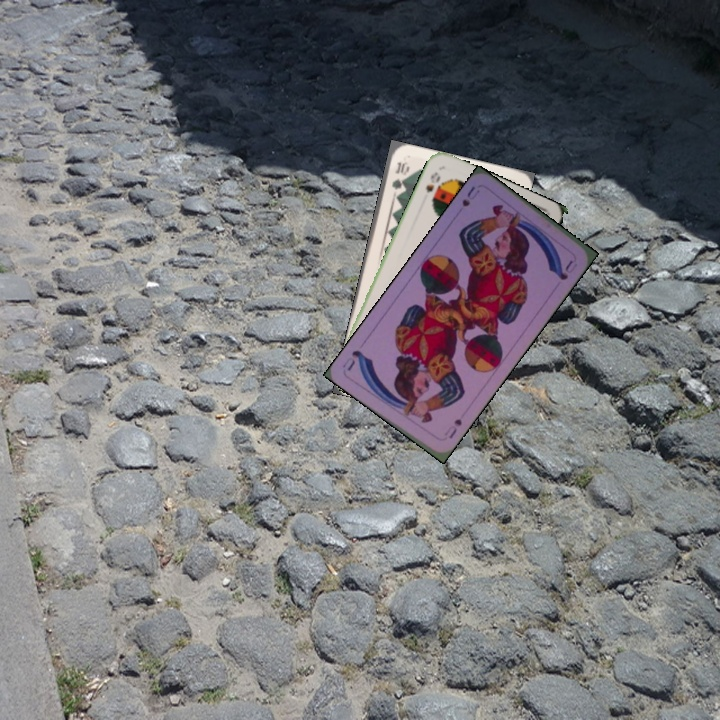G10: (388, 158, 409, 193)
SO: (422, 167, 443, 204)
SU: (457, 182, 482, 212), (440, 414, 465, 441)
